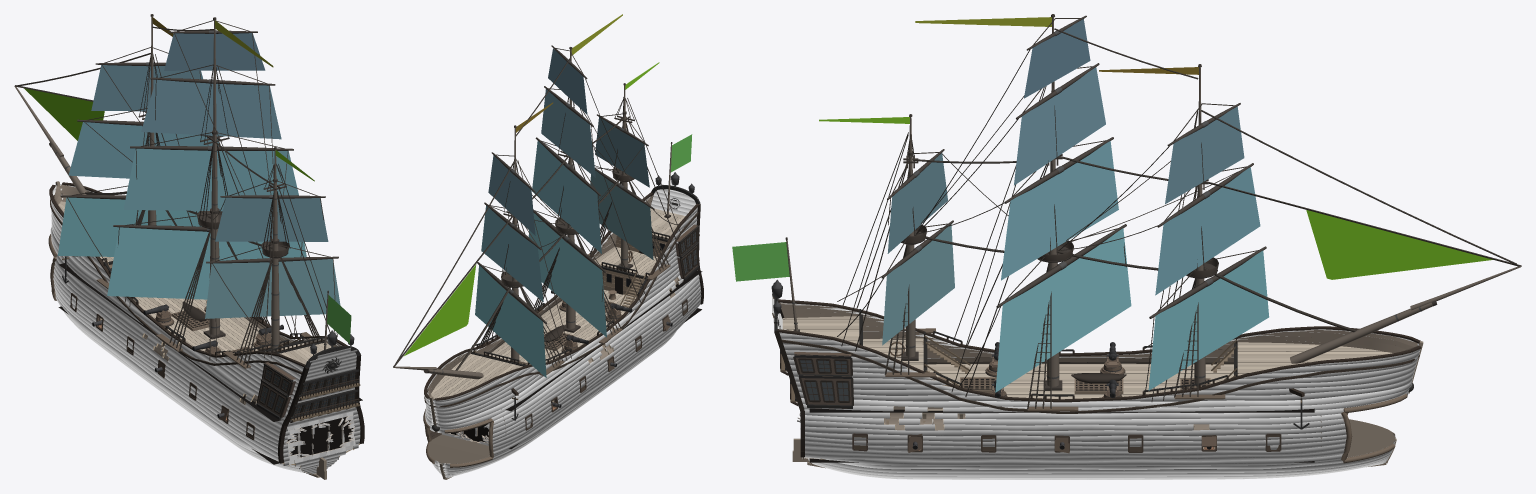
Rendered from pirate_ship.glb.
3 views of the same model, side by side, from view 1: azimuth 30°, elevation 25°; view 2: azimuth 150°, elevation 25°; view 3: azimuth 270°, elevation 25° (orthographic). The views are drawn at different scales.
Parts seen in each view (by area): view 1: Hull, Upperworks, Sail_2b, Rigging, Sail_2a, Sail_2c, Sail_3a, Sail_1a, Sail_3b, Sail_1b, Mast_2, Sail_2d (+9 smaller); view 2: Hull, Upperworks, Rigging, Sail_2a, Sail_2b, Sail_1a, Sail_1b, Sail_3a, Sail_2c, Sail_3b, Sail_0a, Sail_1c (+8 smaller); view 3: Hull, Upperworks, Sail_2a, Rigging, Sail_2b, Sail_1a, Sail_1b, Sail_0a, Sail_2c, Sail_3a, Sail_1c, Stays (+9 smaller).
Boxes of the visible parts, x1,y1,x2,y2 form: Hull: (48, 181, 364, 479); Upperworks: (49, 182, 360, 422); Sail_2b: (123, 148, 298, 211); Rigging: (67, 20, 337, 367); Sail_2a: (107, 227, 306, 299); Sail_2c: (141, 79, 281, 139); Sail_3a: (205, 259, 340, 318); Sail_1a: (57, 197, 201, 256); Sail_3b: (215, 197, 328, 241); Sail_1b: (68, 122, 218, 178); Mast_2: (113, 17, 293, 339); Sail_2d: (164, 33, 265, 70); Hull: (423, 184, 703, 479); Upperworks: (424, 142, 700, 420); Rigging: (479, 48, 680, 367); Sail_2a: (528, 213, 606, 337); Sail_2b: (532, 141, 601, 253); Sail_1a: (475, 265, 546, 377); Sail_1b: (481, 205, 543, 301); Sail_3a: (590, 170, 653, 259); Sail_2c: (541, 89, 595, 177); Sail_3b: (595, 117, 649, 187); Sail_0a: (403, 264, 476, 356); Sail_1c: (488, 155, 535, 235); Hull: (772, 294, 1423, 479); Upperworks: (771, 237, 1421, 429); Sail_2a: (995, 228, 1131, 392); Rigging: (837, 18, 1258, 409); Sail_2b: (1001, 141, 1118, 280); Sail_1a: (1148, 250, 1269, 390); Sail_1b: (1155, 167, 1260, 295); Sail_0a: (1306, 210, 1492, 279); Sail_2c: (1014, 67, 1105, 185); Sail_3a: (882, 224, 954, 345); Sail_1c: (1165, 106, 1244, 204); Stays: (913, 28, 1521, 332).
Size of the model in its own units: 43.94 by 111 by 172.
